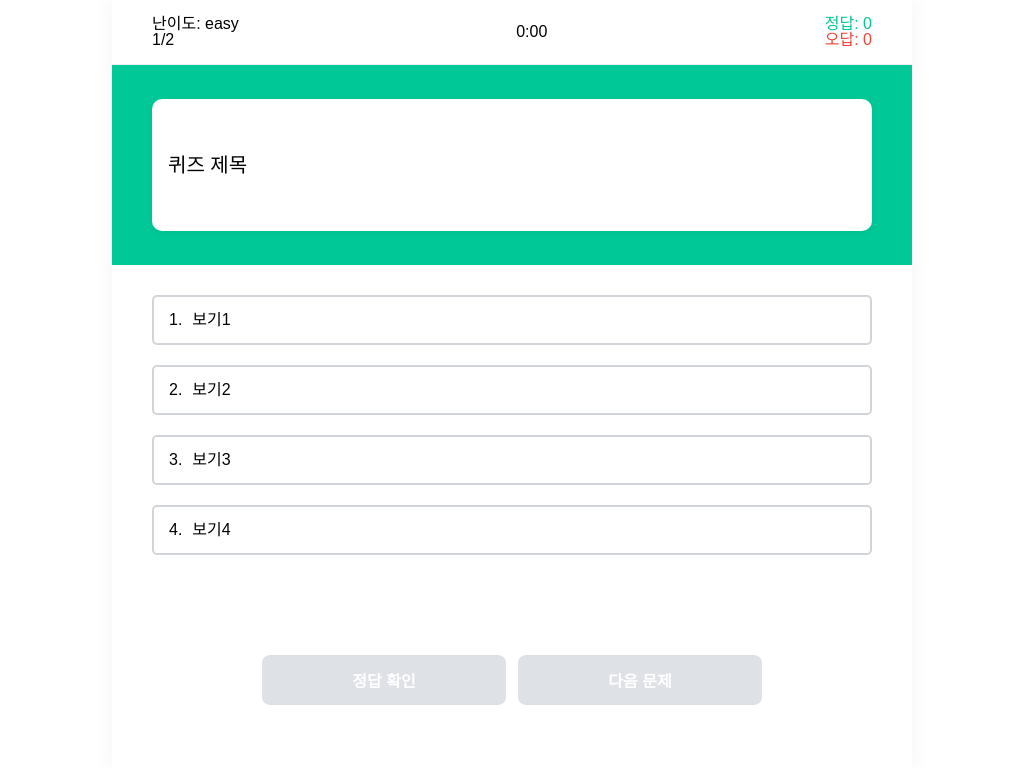
Test: quiz page render test › 정답을 확인할 경우 다시 풀기 버튼과 다음문제 버튼이 활성화 된다
Expected: the button "다음 문제" is disabled, x1=518 y1=655 x2=762 y2=705
Expected: the button "다시 풀기" is not shown
Click the text "보기1" at (212, 320), box x1=192 y1=312 x2=231 y2=328
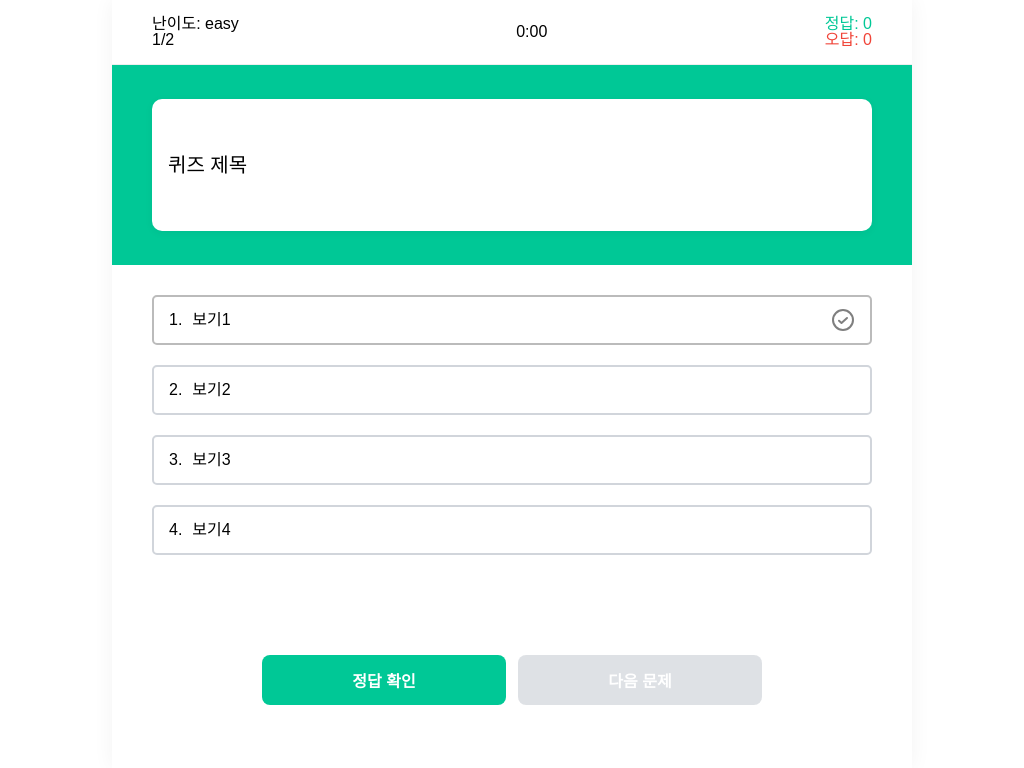
Click the button "정답 확인" at (384, 680), box x1=262 y1=655 x2=506 y2=705
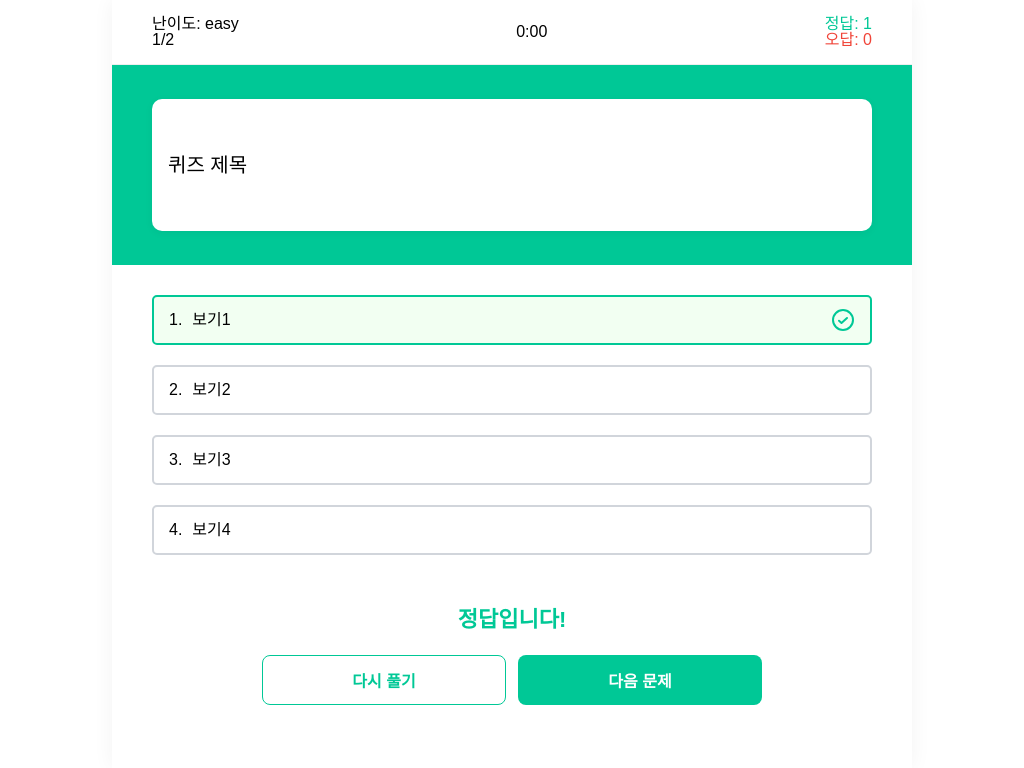
Expected: the button "다음 문제" is enabled, x1=518 y1=655 x2=762 y2=705
Expected: the button "다시 풀기" is shown, x1=262 y1=655 x2=506 y2=705
